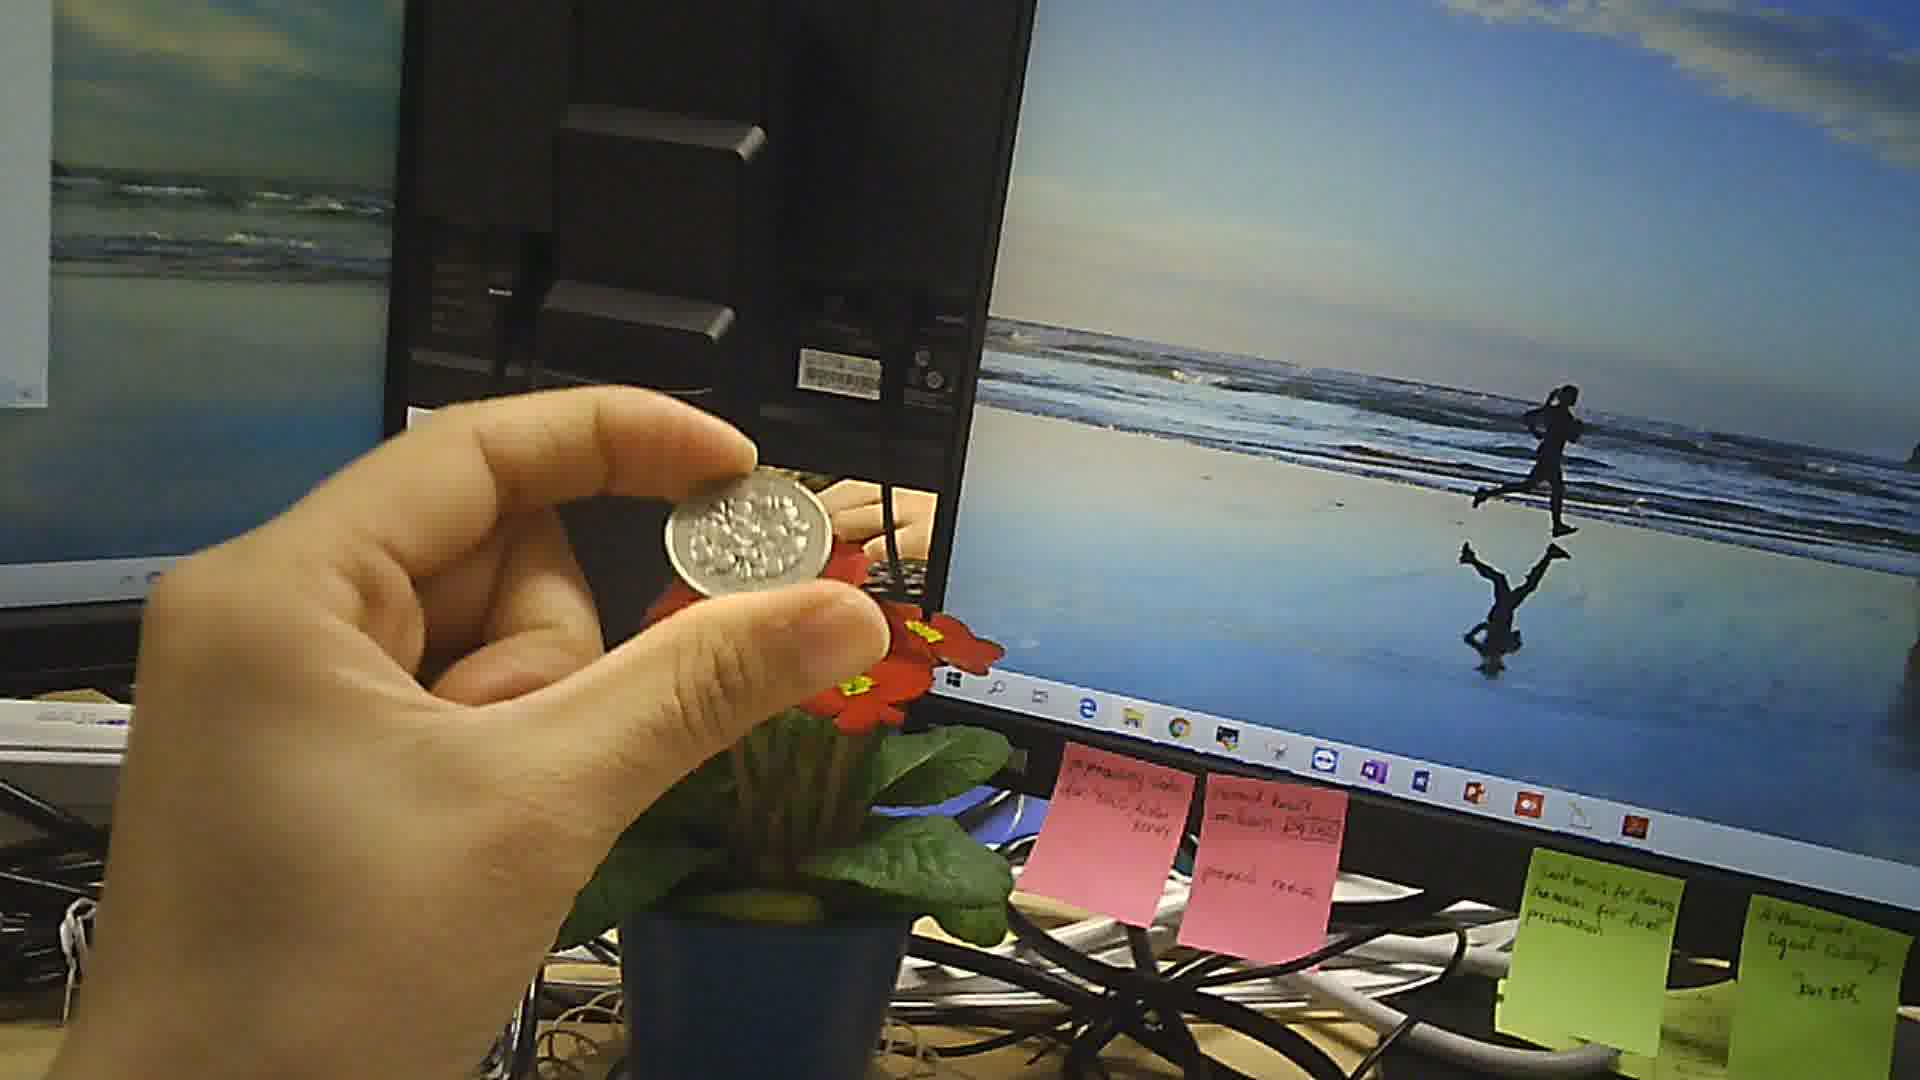100 Yen: (662, 462, 835, 603)
